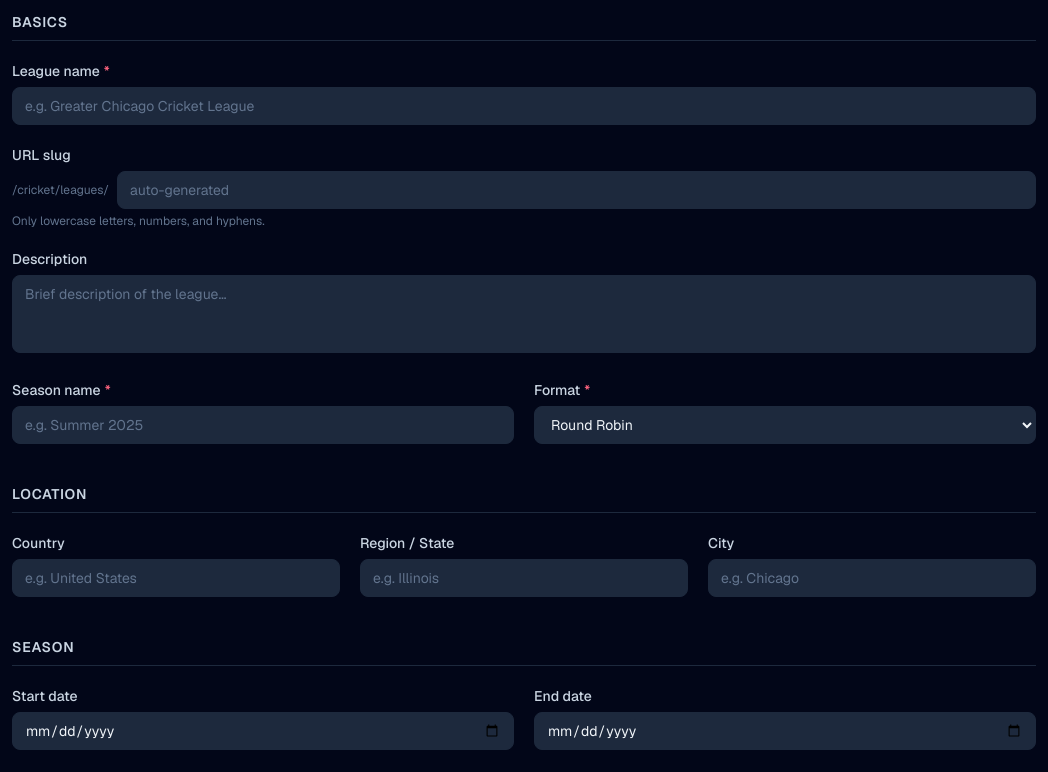
it: CreateLeagueForm — field rendering › auto-generates slug from name input
Type "Chicago Cricket" into the field labelled "League name*". click: (524, 106)
box: [12,87,1036,125]
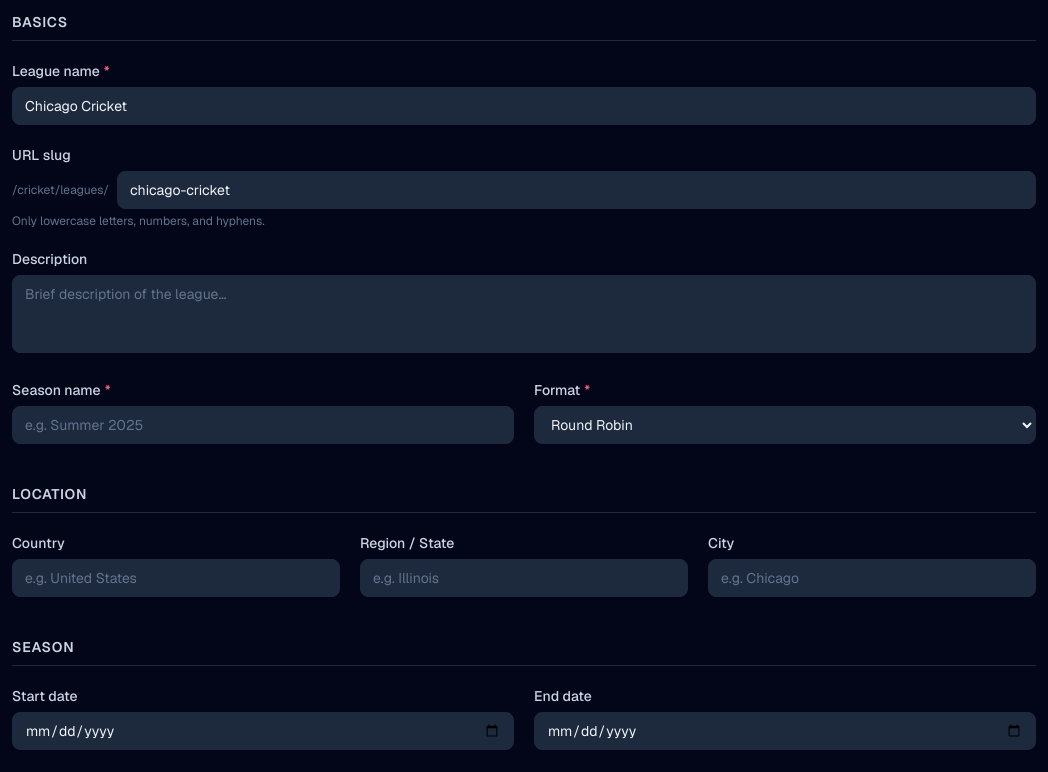
Now the field labelled "URL slug" holds "chicago-cricket", box [117,171,1036,209]
